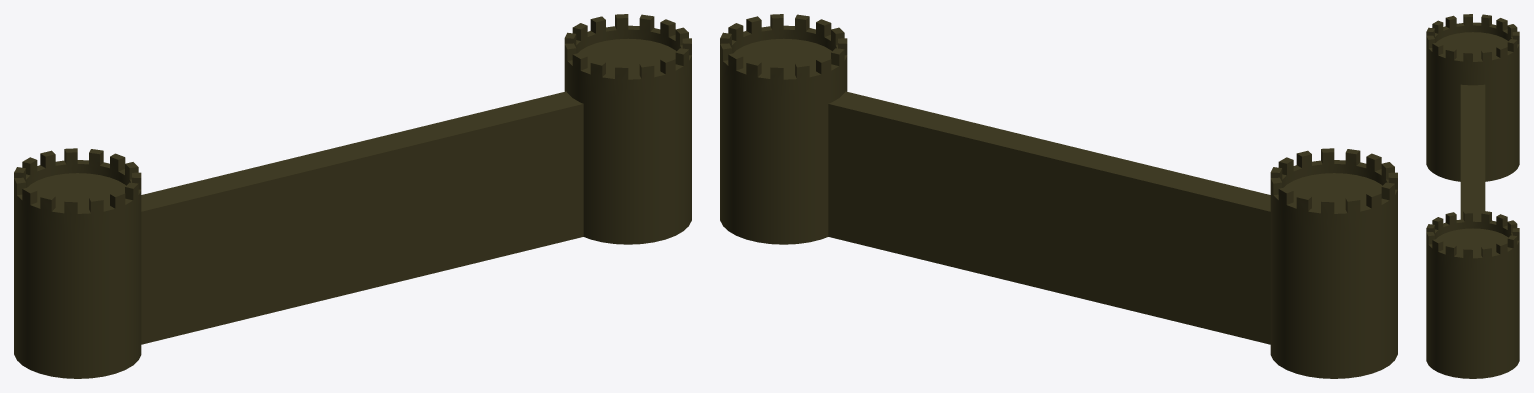
Rendered from Castle 1.fbx.
3 renders of one model, left to right at view 1: azimuth 30°, elevation 25°; view 2: azimuth 150°, elevation 25°; view 3: azimuth 270°, elevation 25°, orthographic. The views are drawn at different scales.
Visible parts, largest first — view 1: pCube5, polySurface2, polySurface1; view 2: pCube5, polySurface2, polySurface1; view 3: polySurface1, polySurface2, pCube5.
Boxes of the visible parts, <box> form: pCube5: <box>141,91,583,344</box>; polySurface2: <box>14,148,141,378</box>; polySurface1: <box>564,14,691,244</box>; pCube5: <box>828,91,1270,344</box>; polySurface2: <box>1270,148,1397,378</box>; polySurface1: <box>720,14,847,244</box>; polySurface1: <box>1426,210,1519,378</box>; polySurface2: <box>1426,14,1519,181</box>; pCube5: <box>1460,84,1485,219</box>.
Bounding box in the file's own units: 526 × 134 × 87.71.
